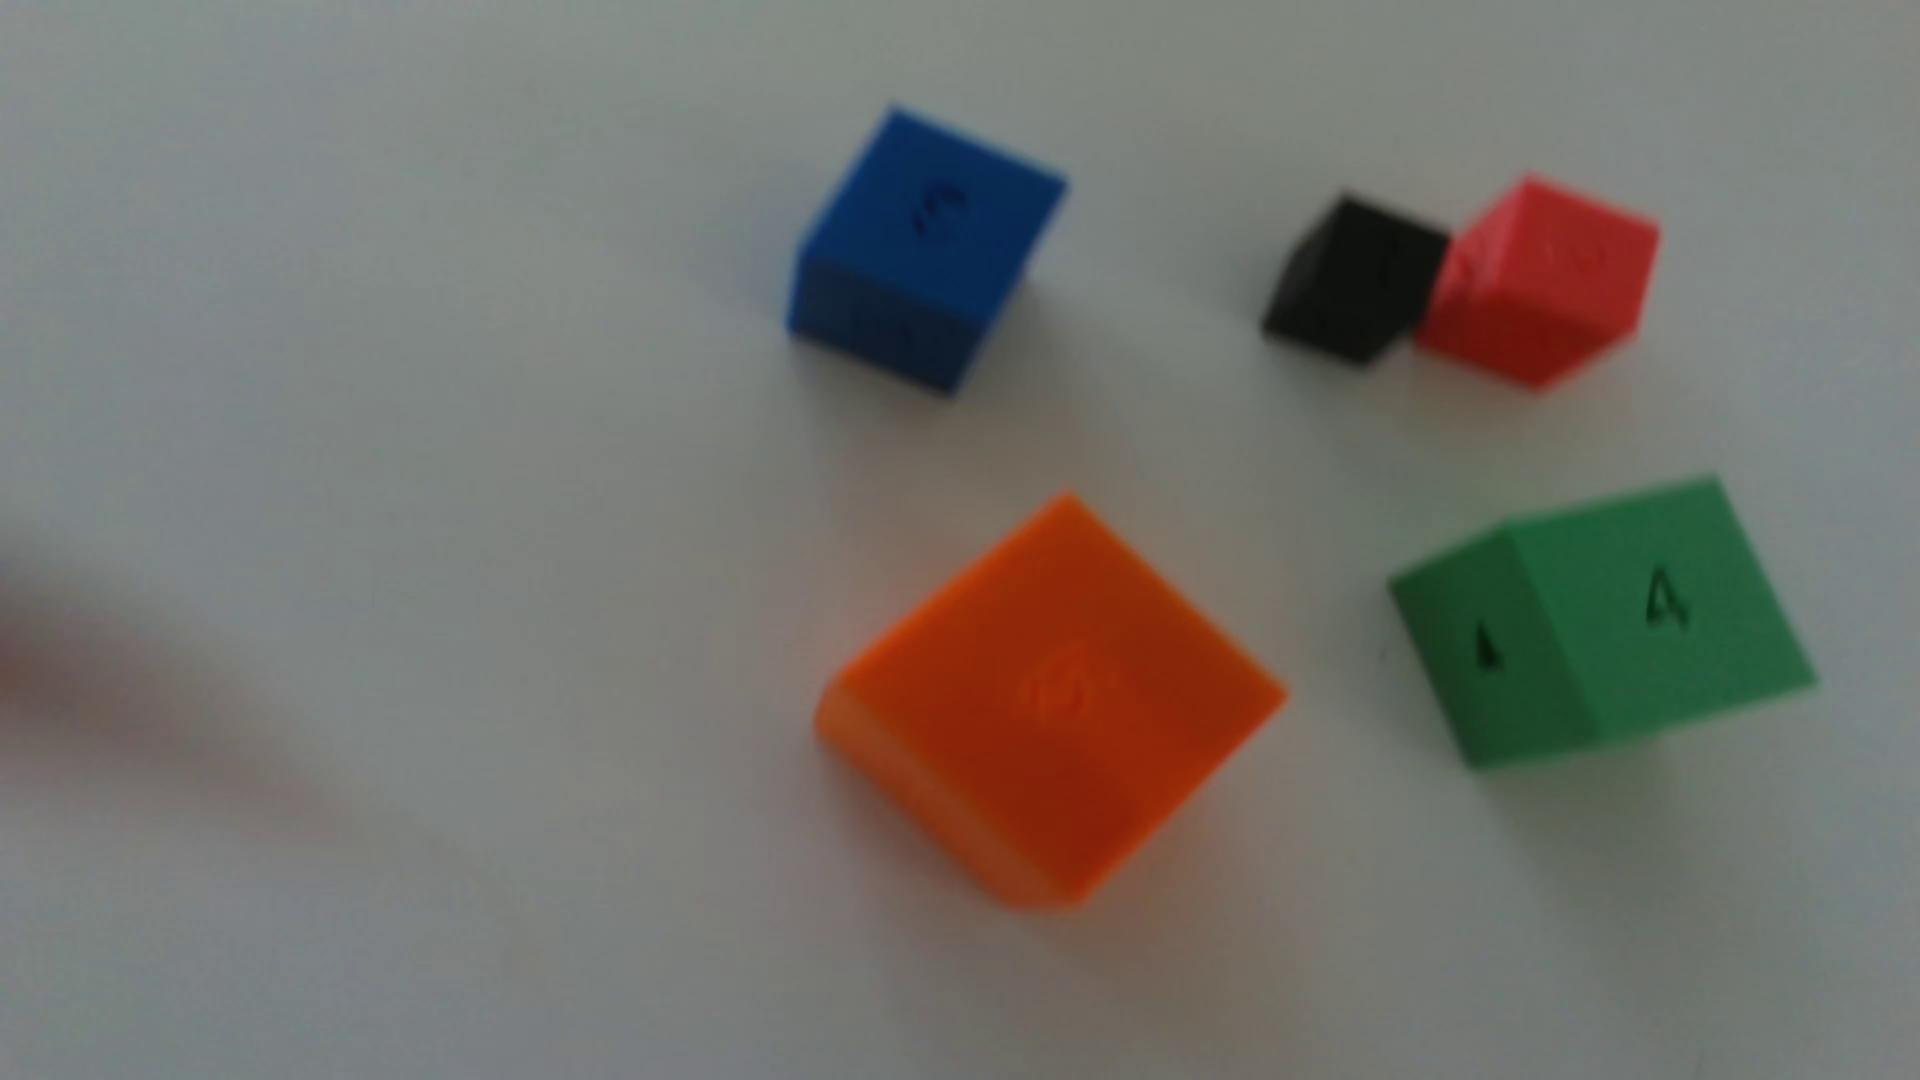black: (1261, 196, 1449, 368)
blue: (787, 109, 1065, 394)
green: (1389, 479, 1815, 770)
orange: (815, 497, 1284, 909)
red: (1414, 178, 1659, 392)
